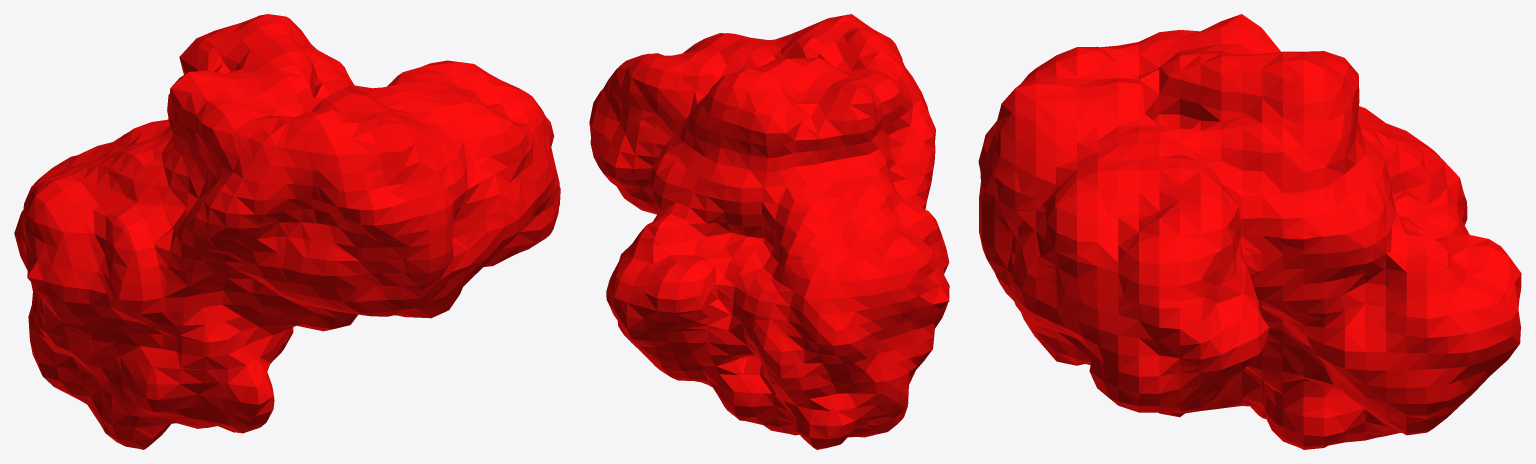
Rendered from putA_coarse.dae.
3 renders of one model, left to right at view 1: azimuth 30°, elevation 25°; view 2: azimuth 150°, elevation 25°; view 3: azimuth 270°, elevation 25°, orthographic. The views are drawn at different scales.
Visible parts, largest first — view 1: putA; view 2: putA; view 3: putA.
Part boxes in pixels (<box>): putA: <box>14,14,560,449</box>; putA: <box>589,14,949,449</box>; putA: <box>978,14,1521,449</box>.
Size of the model in its own units: 105 by 84.26 by 94.16.
